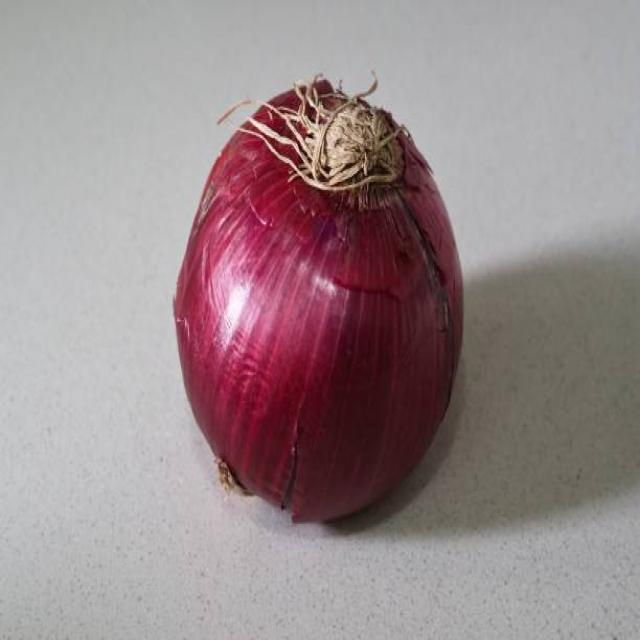onion: (175, 53, 471, 533)
